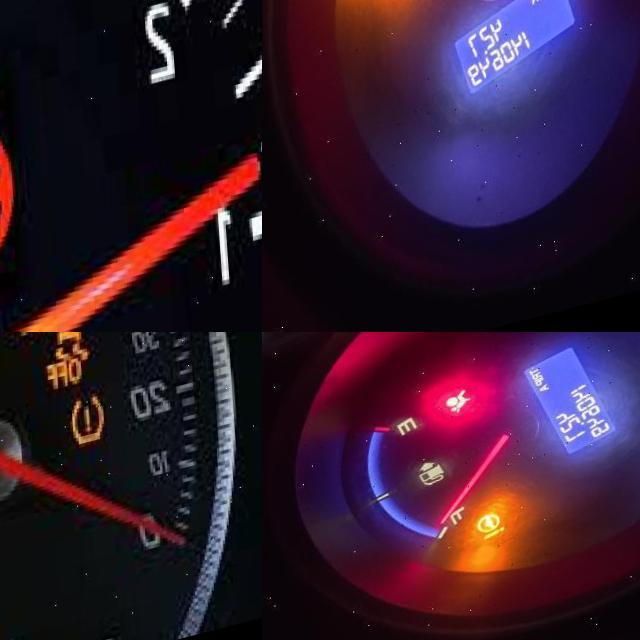Electronic Power Steering Warning: (467, 518, 508, 560)
